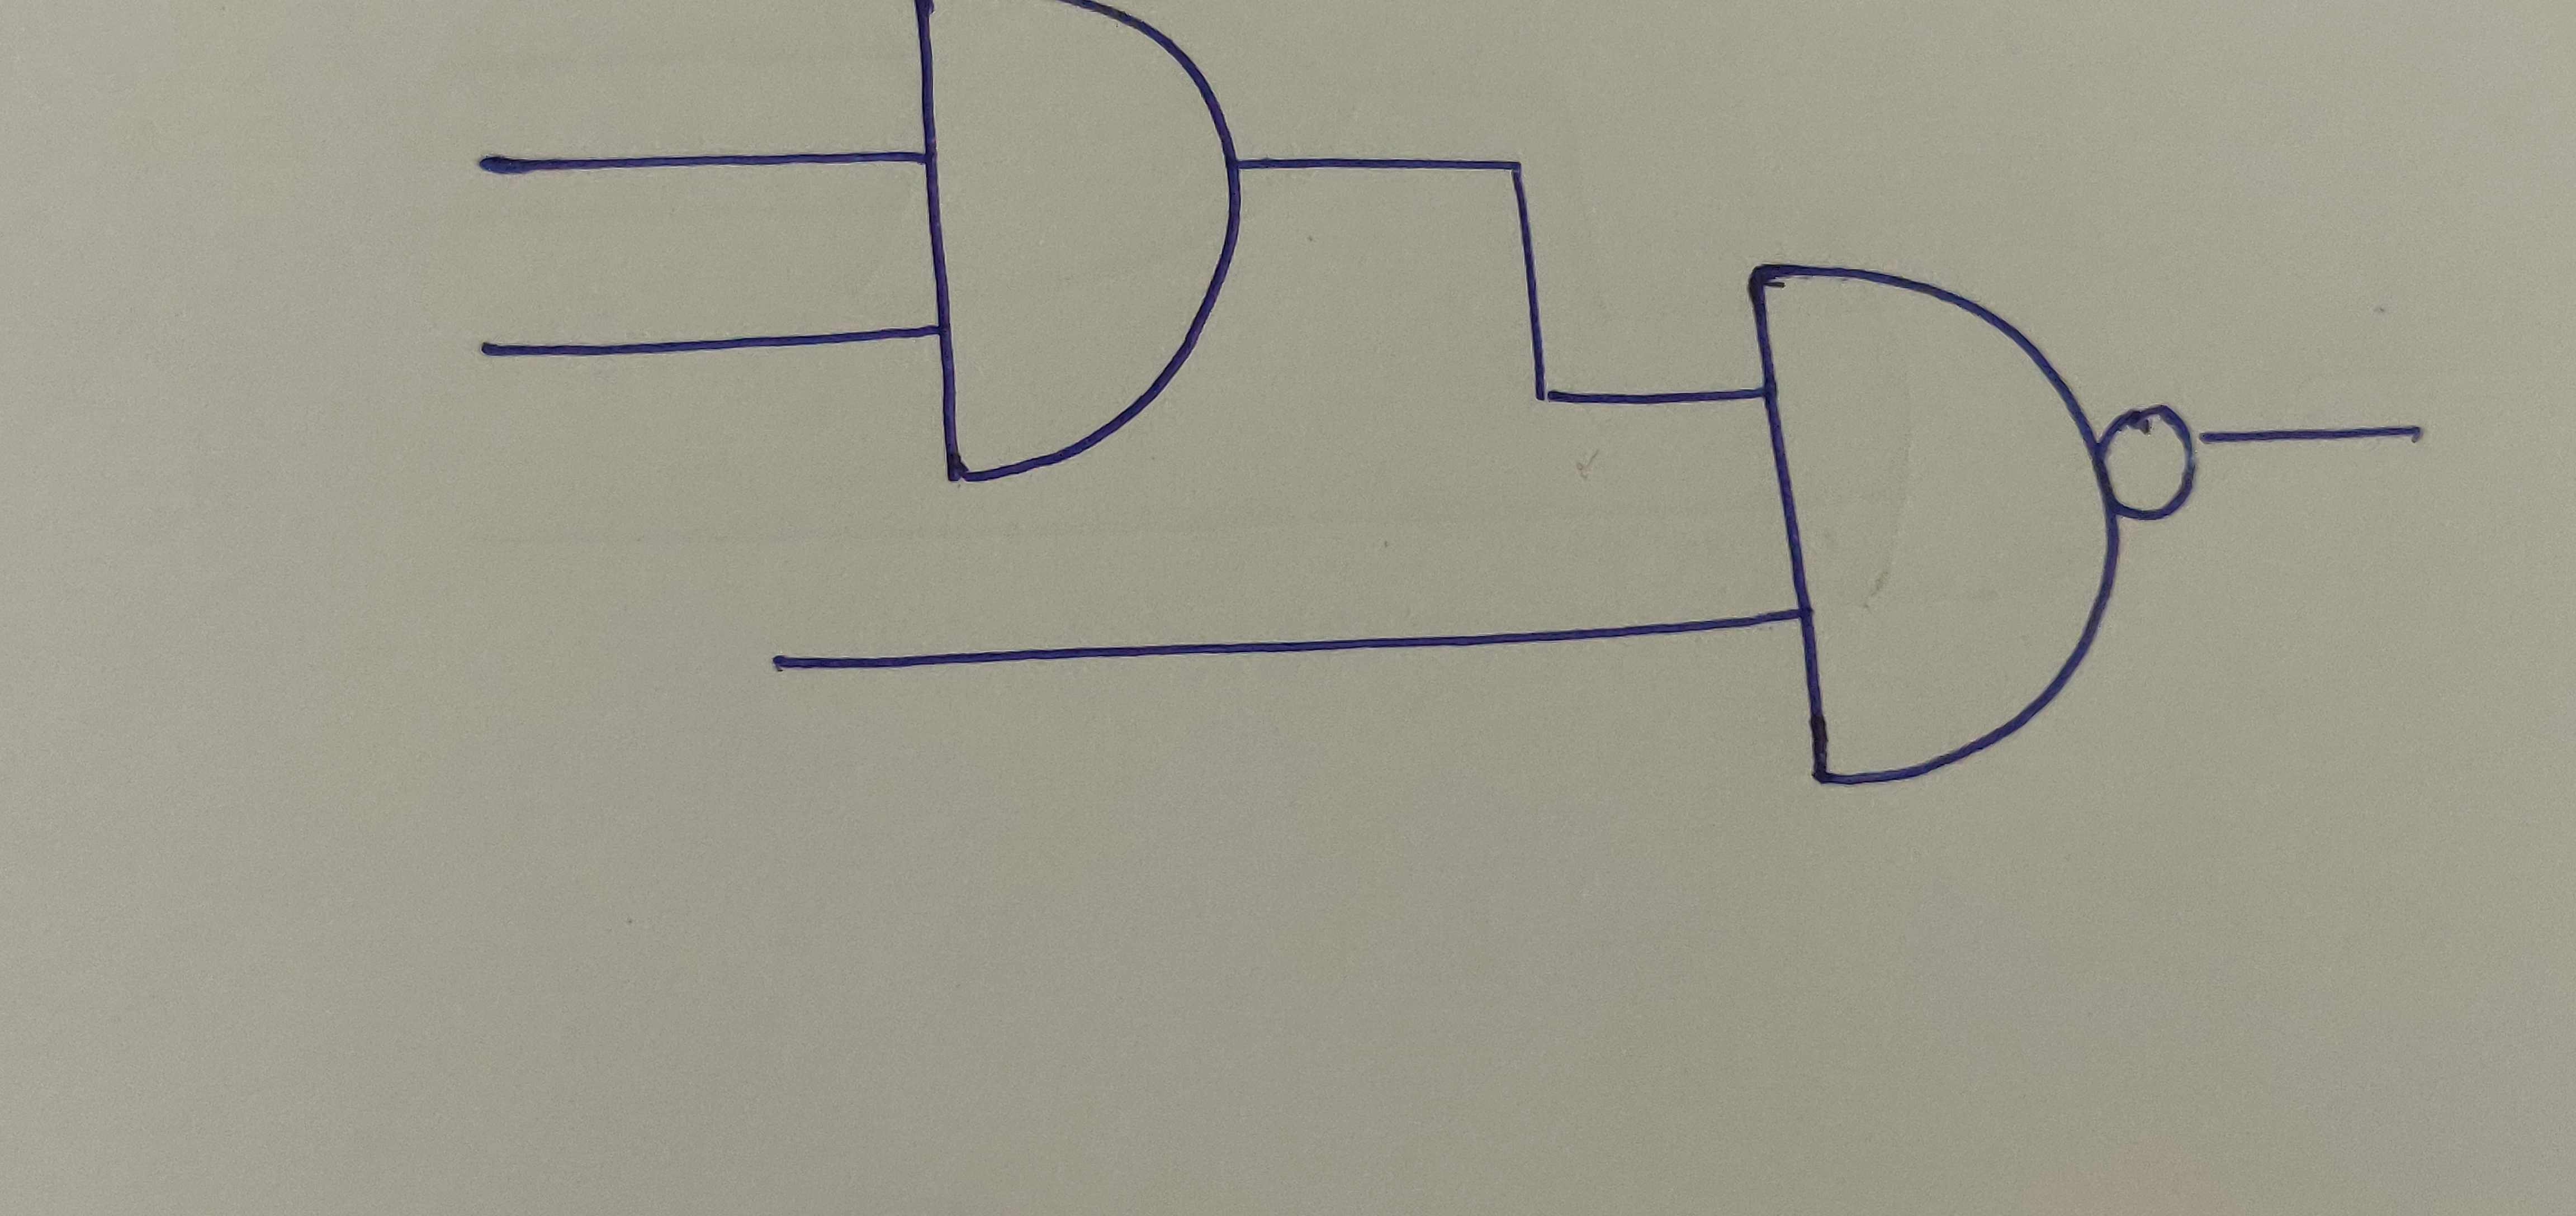and: (1737, 258, 2119, 785), (904, 3, 1245, 488)
not: (2088, 408, 2215, 526)
